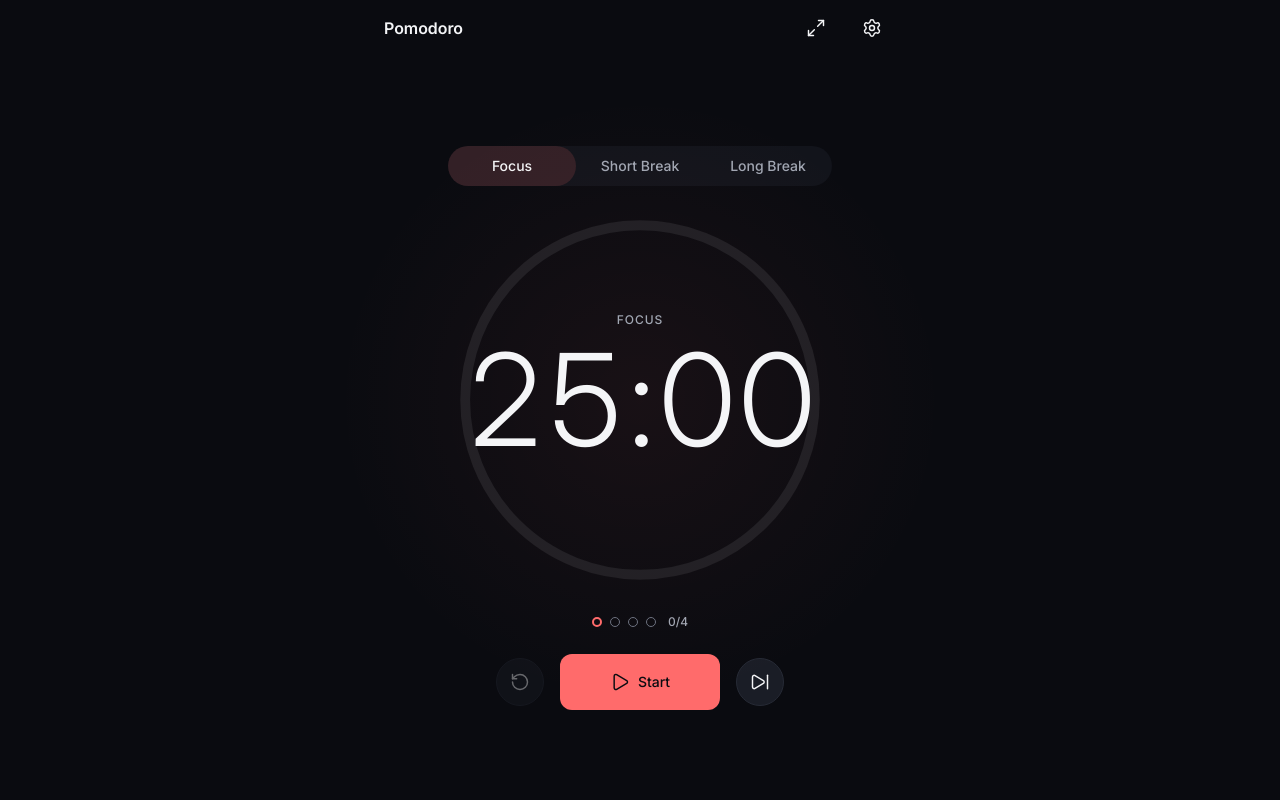
SettingsSheet (POMO-AC11-POMO-AC13, POMO-AC24, POMO-AC26) › rejects 31 in Short Break on Save: error shown, nothing written
Click the button named "Open settings": (872, 28) top-left (848, 4), bottom-right (896, 52)
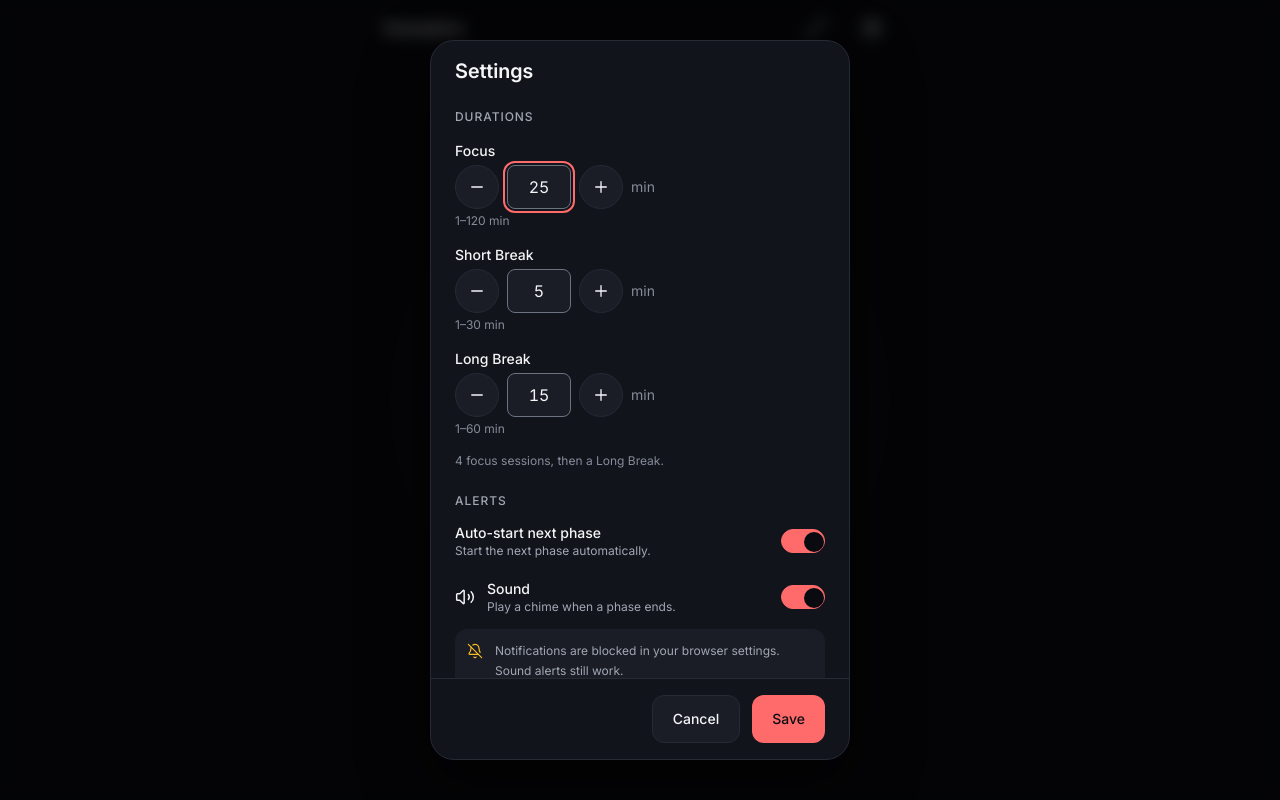
Replace the text in the field labelled "Focus" with "40": (539, 187) top-left (507, 165), bottom-right (571, 209)
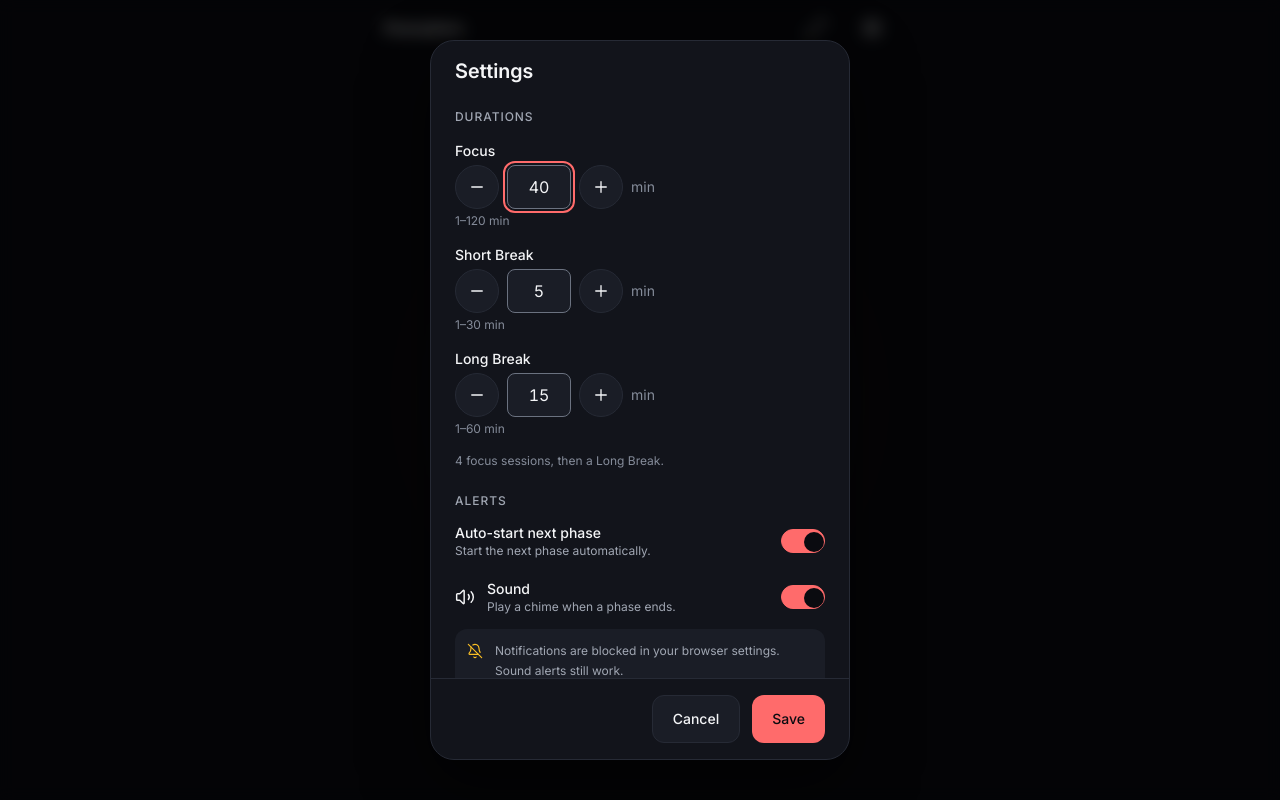
Replace the text in the field labelled "Short Break" with "31": (539, 291) top-left (507, 269), bottom-right (571, 313)
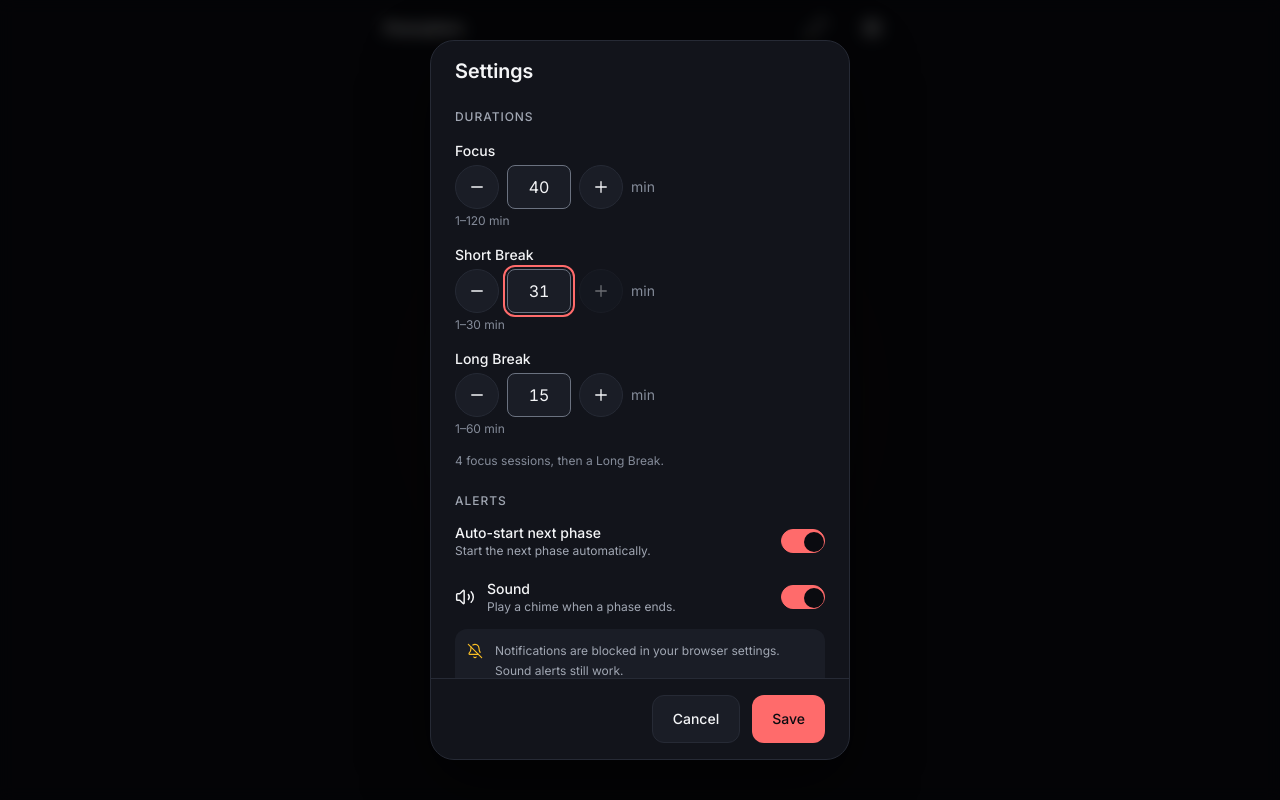
Click the button "Save": (789, 719) top-left (752, 695), bottom-right (825, 743)
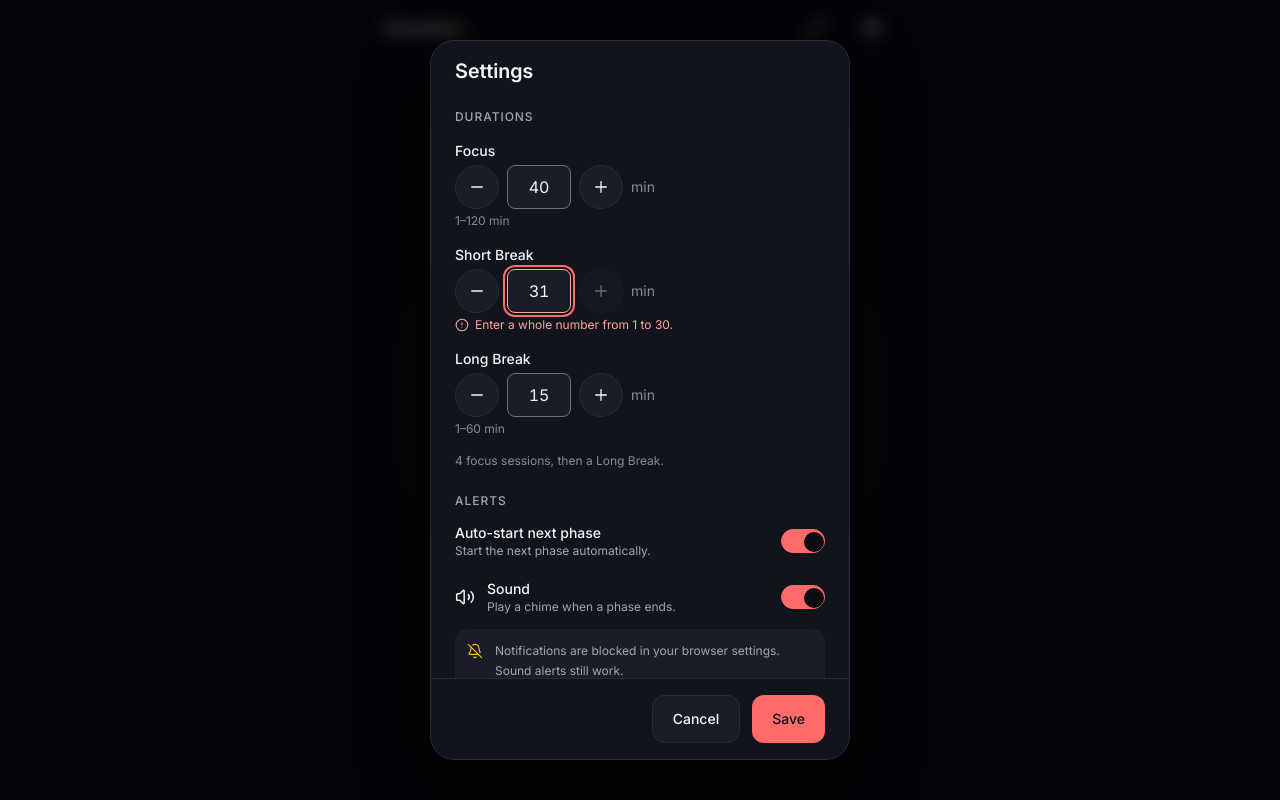
Check: the text "25:00" is shown, box top-left (464, 336), bottom-right (816, 464)
Check: the dialog is shown, box top-left (430, 40), bottom-right (850, 760)
Check: the text "Enter a whole number from 1 to 30." is shown, box top-left (455, 317), bottom-right (673, 332)
